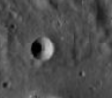crater: (20, 24, 71, 81)
